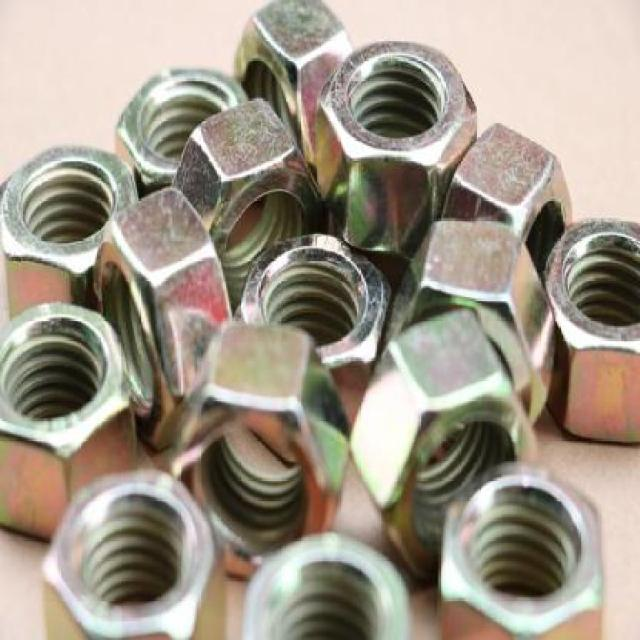Nut: (348, 309, 538, 580), (156, 319, 352, 580), (93, 185, 236, 452), (312, 39, 478, 253), (0, 300, 141, 544), (170, 97, 329, 312), (41, 470, 226, 640), (437, 457, 605, 640), (231, 232, 393, 419), (0, 142, 141, 315), (232, 1, 358, 188), (540, 214, 640, 444), (444, 121, 576, 277), (240, 529, 410, 640), (114, 65, 248, 192)
